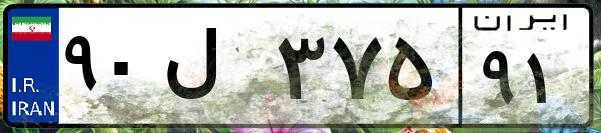0: (110, 28, 158, 98)
1: (525, 38, 570, 115)
3: (270, 28, 330, 110)
5: (385, 28, 445, 110)
7: (330, 28, 385, 110)
9: (57, 26, 110, 100), (475, 38, 525, 113)
ل: (158, 20, 270, 120)
